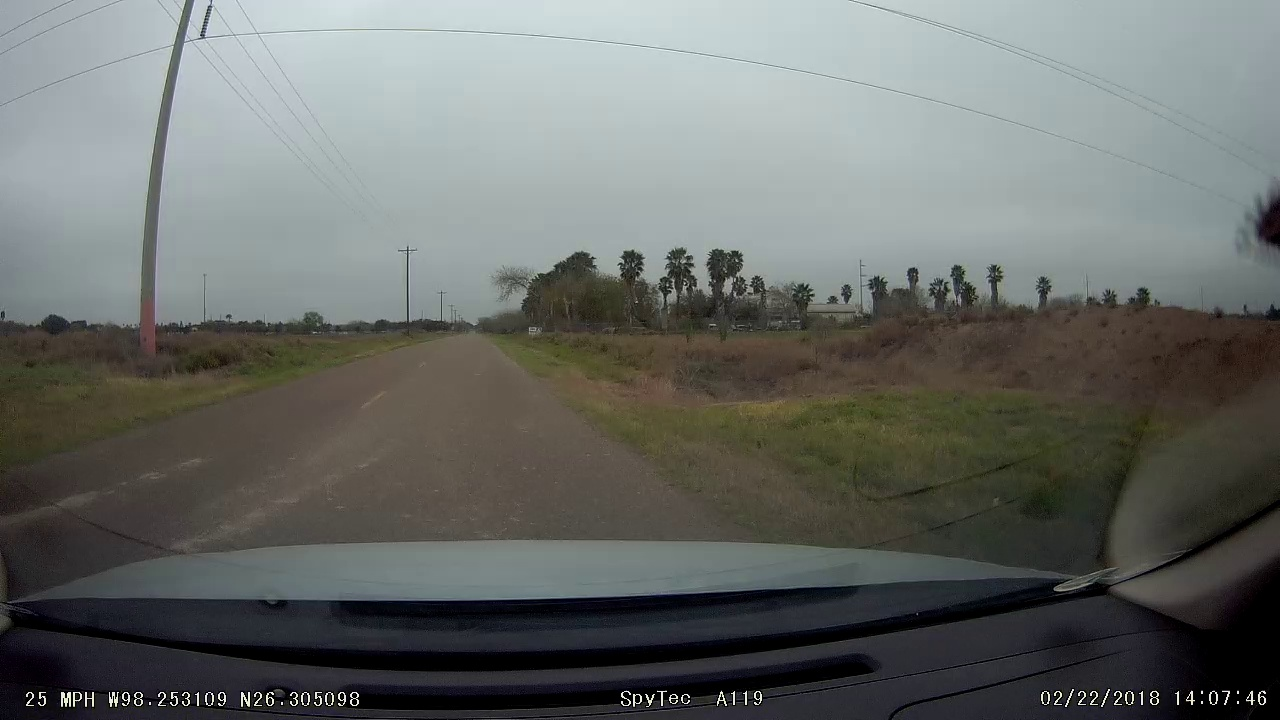blurredLine: (355, 383, 392, 414)
